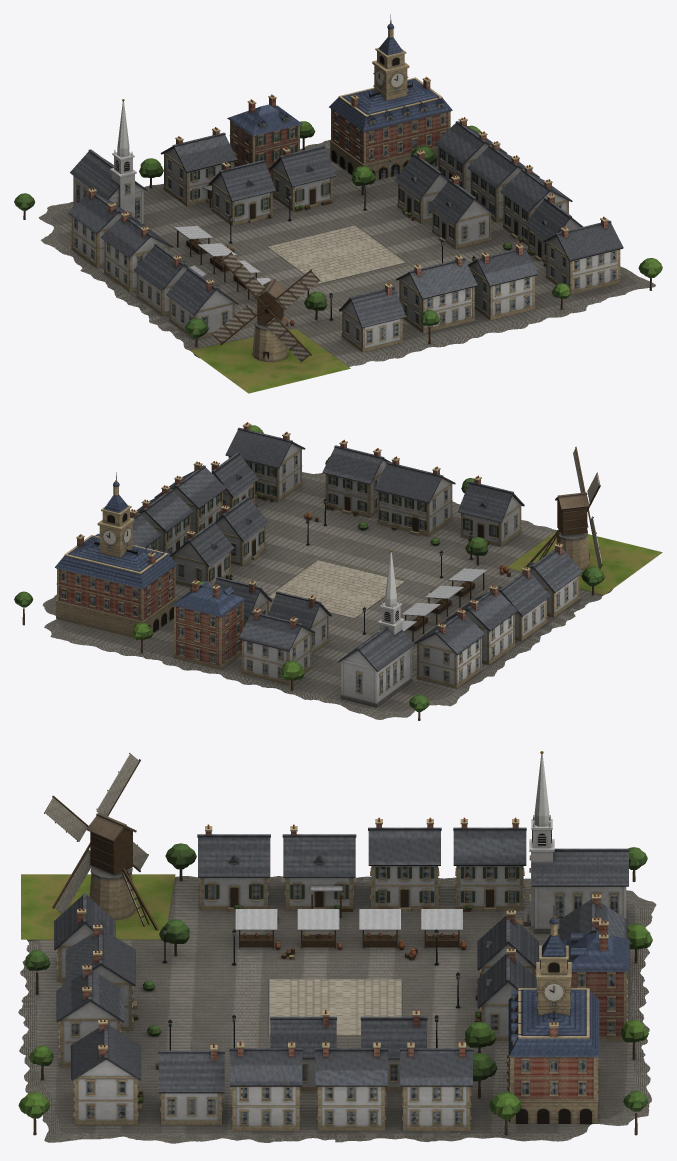
The model's file is gunpowder-town-medium-b-colonies.glb.
3 views of the same model, one above another, from view 1: azimuth 30°, elevation 25°; view 2: azimuth 150°, elevation 25°; view 3: azimuth 270°, elevation 25° (orthographic). The views are drawn at different scales.
Parts seen in each view (by area): view 1: LOD0; view 2: LOD0; view 3: LOD0.
Part boxes in pixels (bbox=[...]): LOD0: bbox=[14, 14, 662, 393]; LOD0: bbox=[14, 422, 662, 720]; LOD0: bbox=[18, 751, 656, 1143].
Size of what is drawn, in the model's own units: 6.03 by 2 by 6.09.
Materials: 3 (3 with a texture image).
